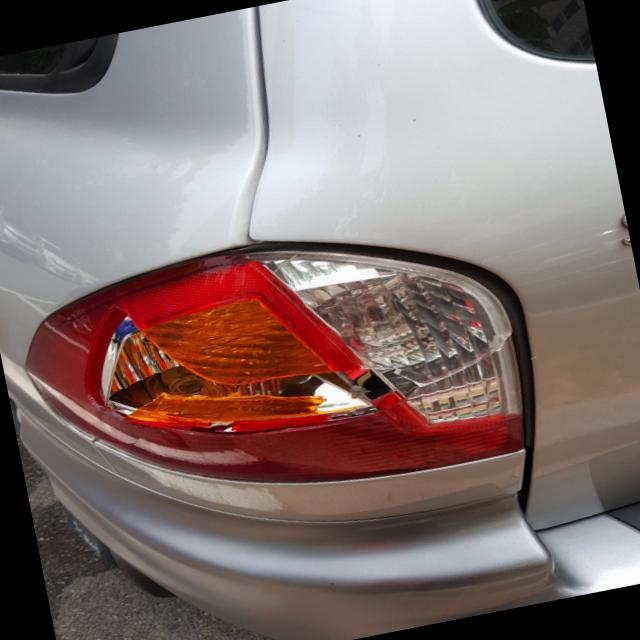Phare abime: (47, 229, 475, 541)
